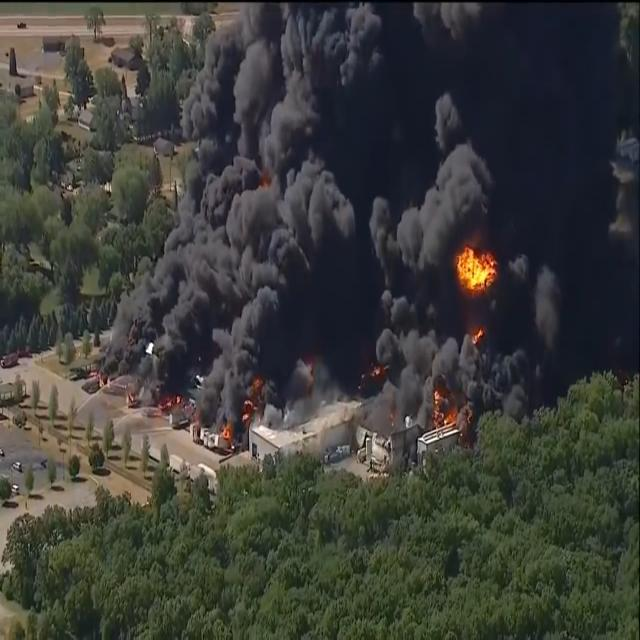Fire: (452, 240, 498, 297), (238, 372, 264, 429), (430, 382, 460, 426), (158, 392, 184, 410), (470, 326, 484, 346), (222, 424, 232, 441)
Smoke: (100, 0, 374, 430), (370, 0, 594, 423)
